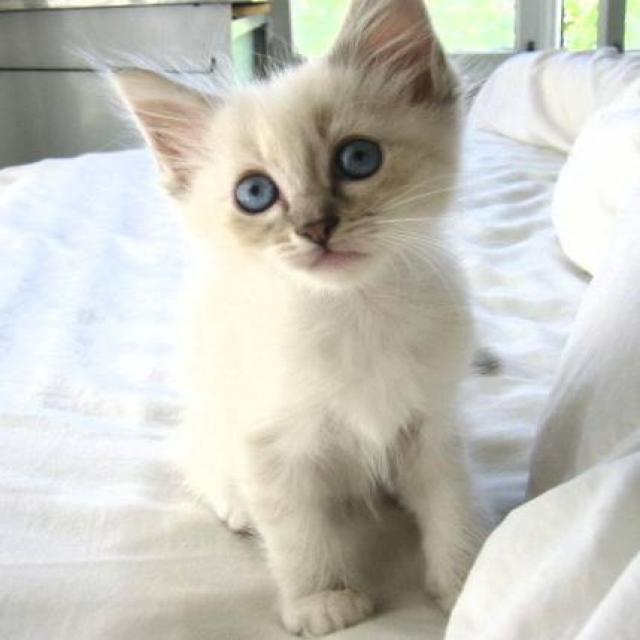cat: (65, 0, 496, 637)
